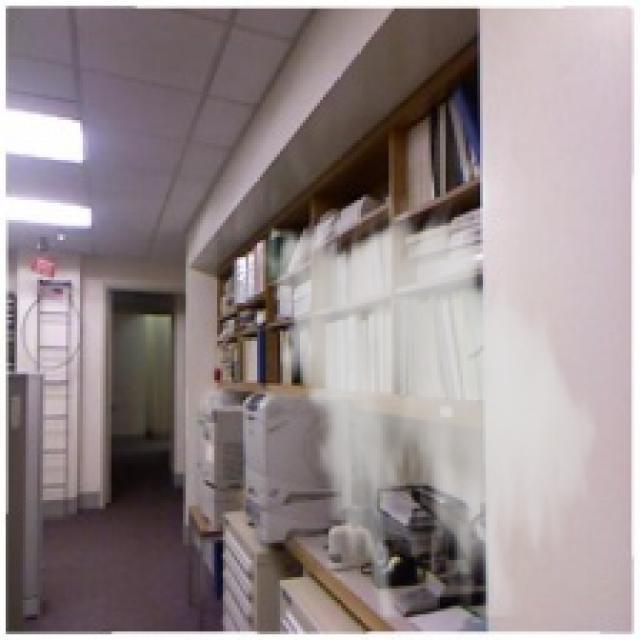Smoke: (254, 195, 609, 620)
